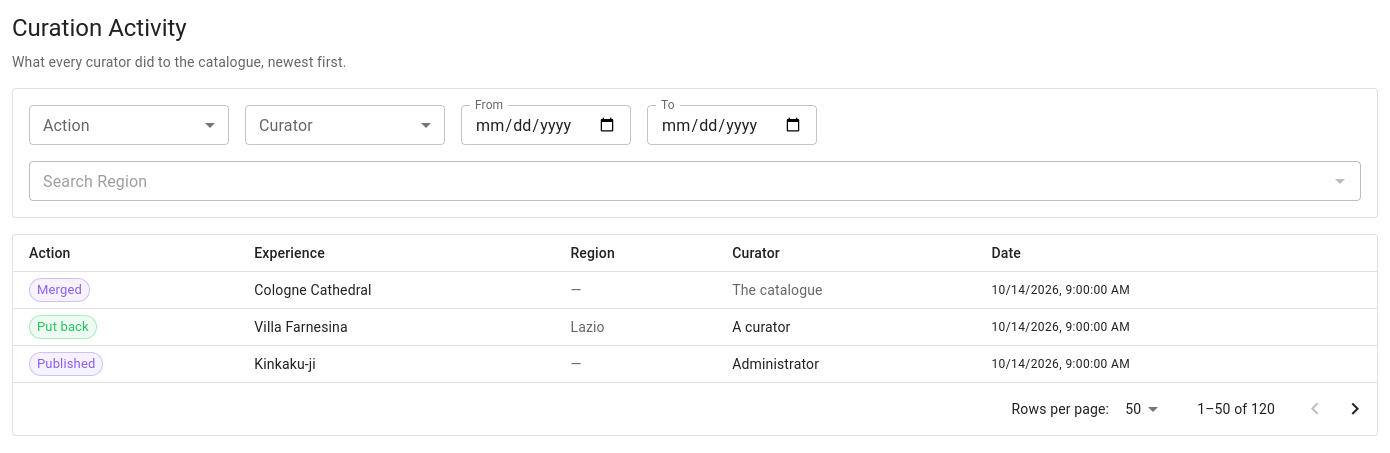
Test: the curation activity feed (#611) › offers every curator the log names, one whose scope was revoked included
Expected: the text "Villa Farnesina" is shown, [254,319,348,335]
Press the mouse on the 2nd dropdown named "Curator" at {"x": 345, "y": 125}, box [245,105,445,145]
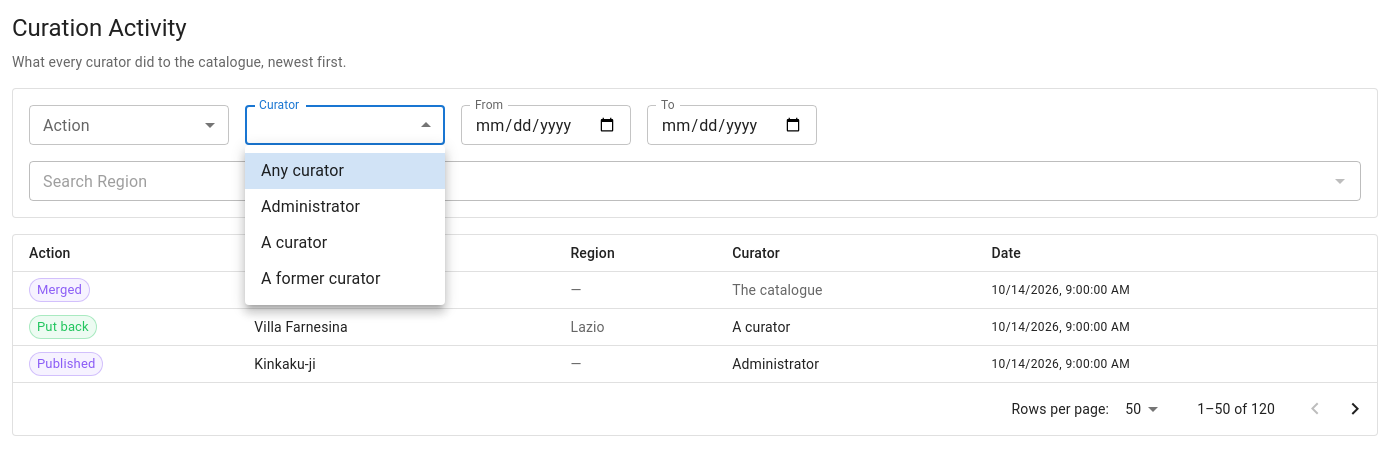
Expected: the option "A former curator" is shown, [261,269,380,288]
